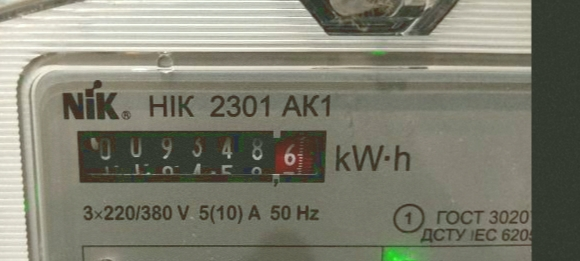0: (127, 133, 142, 156), (97, 133, 110, 159)
3: (188, 132, 202, 158)
4: (218, 132, 232, 159)
6: (280, 139, 297, 166)
8: (248, 133, 263, 161)
9: (157, 133, 172, 159)
screen: (66, 121, 335, 190)
